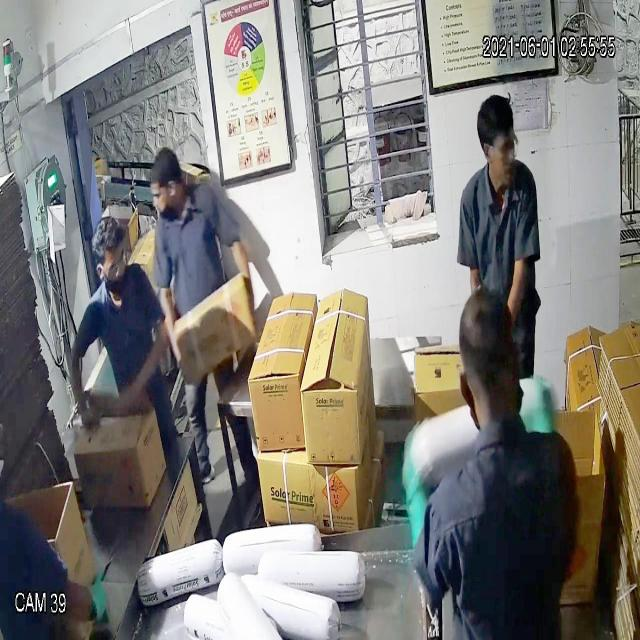glasses: (474, 132, 522, 166), (91, 248, 133, 284)
